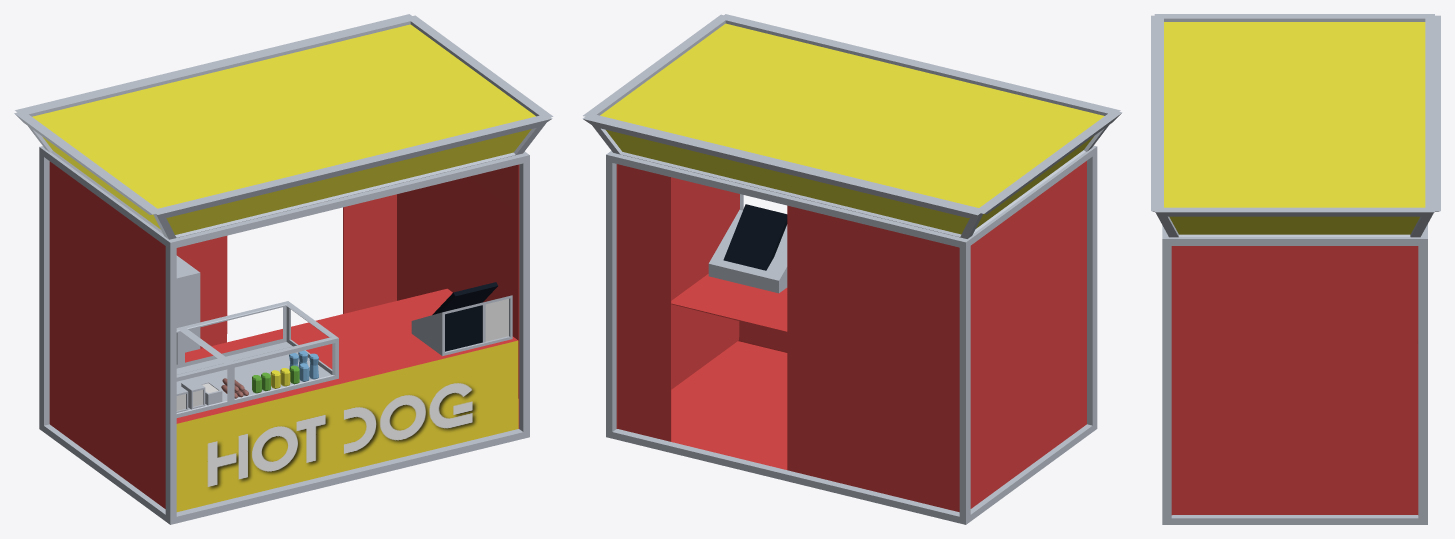
The model's file is hot-dog-stand.fbx.
3 renders of one model, left to right at view 1: azimuth 30°, elevation 25°; view 2: azimuth 150°, elevation 25°; view 3: azimuth 270°, elevation 25°, orthographic.
Visible parts, largest first — view 1: 8. hot-dog-stand; view 2: 8. hot-dog-stand; view 3: 8. hot-dog-stand.
Part boxes in pixels (box(x1,y1,x2,y2)): 8. hot-dog-stand: box(14, 14, 553, 524); 8. hot-dog-stand: box(582, 14, 1122, 524); 8. hot-dog-stand: box(1151, 14, 1440, 524).
Size of the model in its own units: 3.24 by 2.45 by 2.
